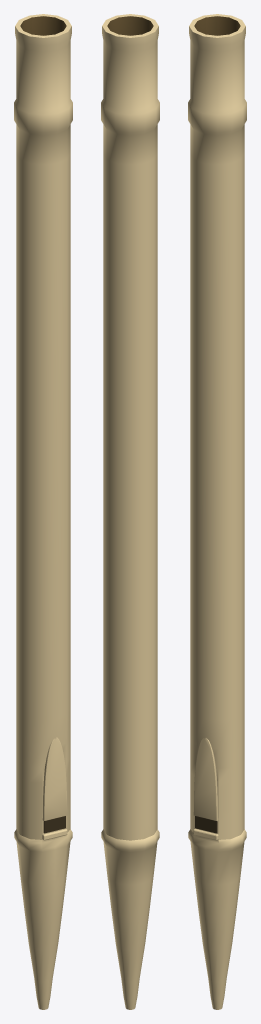
Rendered from pipe.glb.
3 views of the same model, side by side, from view 1: azimuth 30°, elevation 25°; view 2: azimuth 150°, elevation 25°; view 3: azimuth 330°, elevation 25° (orthographic).
Parts seen in each view (by area): view 1: pipe; view 2: pipe; view 3: pipe.
Boxes of the visible parts, x1,y1,x2,y2 form: pipe: [14, 14, 72, 1009]; pipe: [101, 14, 159, 1009]; pipe: [188, 14, 246, 1009].
Bounding box in the file's own units: 0.0544 × 1 × 0.0544.
